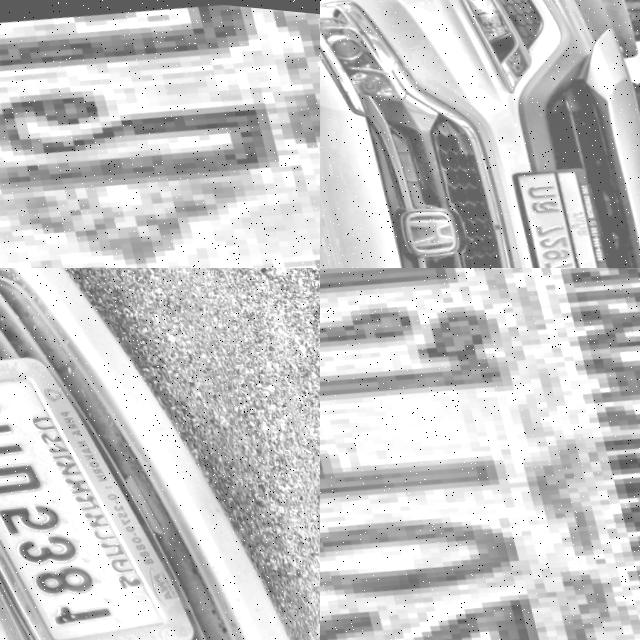license-plate: (320, 268, 640, 640), (0, 0, 320, 268), (0, 319, 201, 640), (503, 148, 613, 268)
